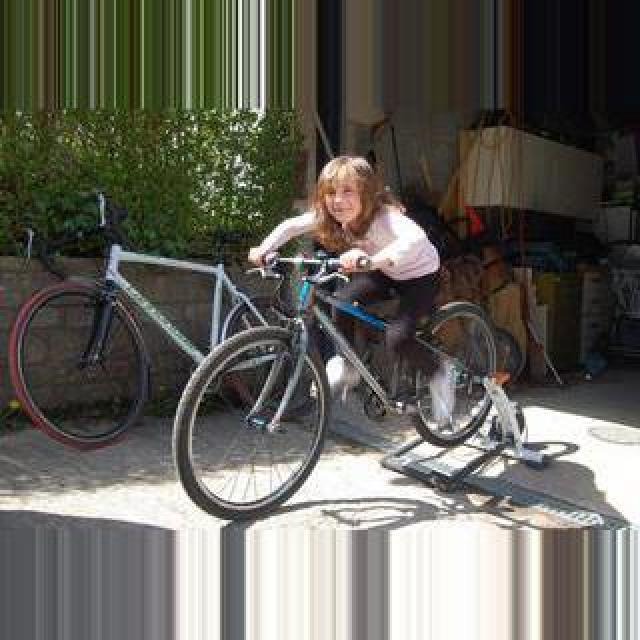MC-Bike: (242, 150, 446, 438)
Person: (173, 243, 549, 521), (14, 200, 318, 448)
